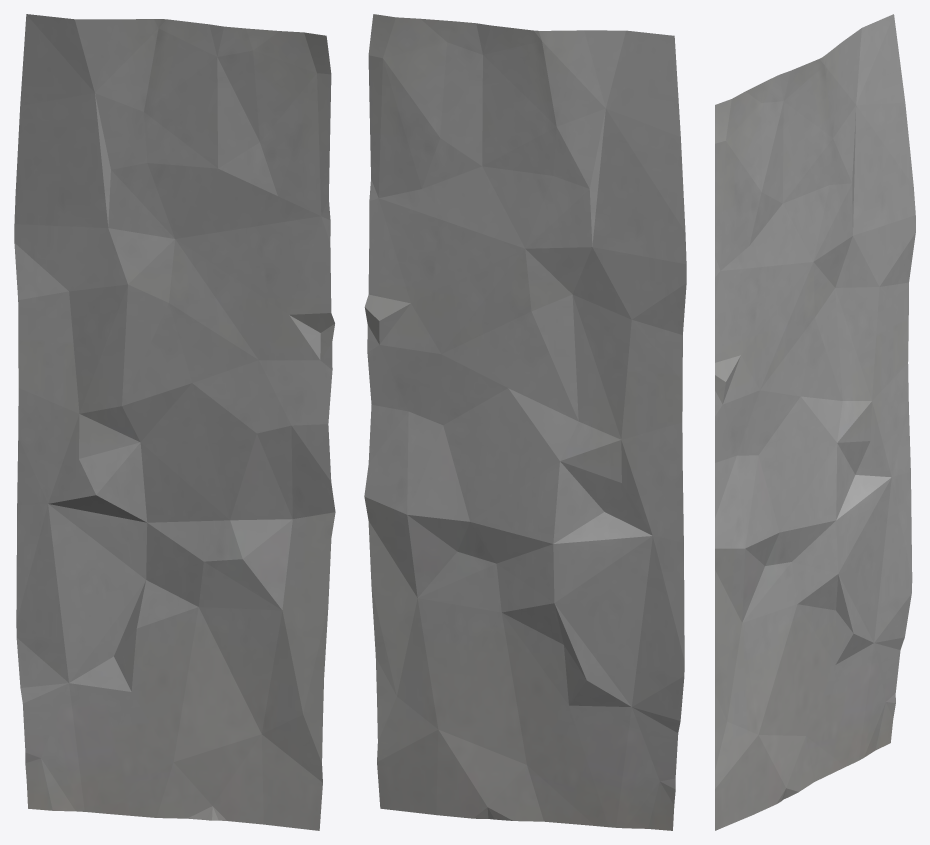
3 renders of one model, left to right at view 1: azimuth 30°, elevation 25°; view 2: azimuth 210°, elevation 25°; view 3: azimuth 270°, elevation 25°, orthographic. The views are drawn at different scales.
Bounding box in the file's own units: 0.2339 × 0.8374 × 0.2091.
1 material, 1 textured.
